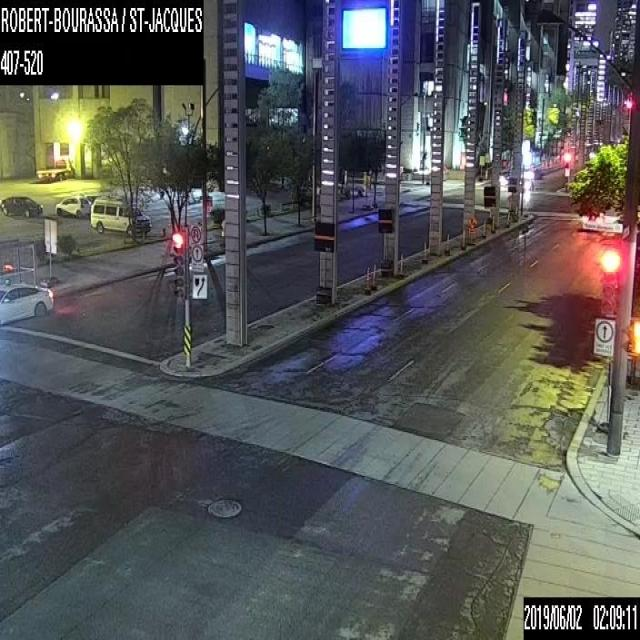construction: (468, 213, 478, 243), (372, 266, 376, 290), (399, 253, 403, 275), (445, 232, 449, 253), (365, 263, 368, 288), (423, 238, 426, 262), (491, 216, 494, 231), (506, 213, 509, 226)
vehicle: (0, 279, 55, 325), (89, 194, 151, 234), (35, 157, 74, 182), (0, 196, 42, 216), (54, 194, 90, 216)
